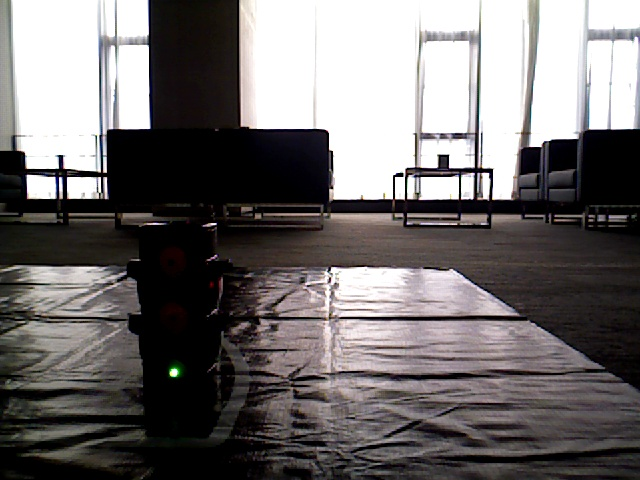green: (147, 225, 206, 381)
